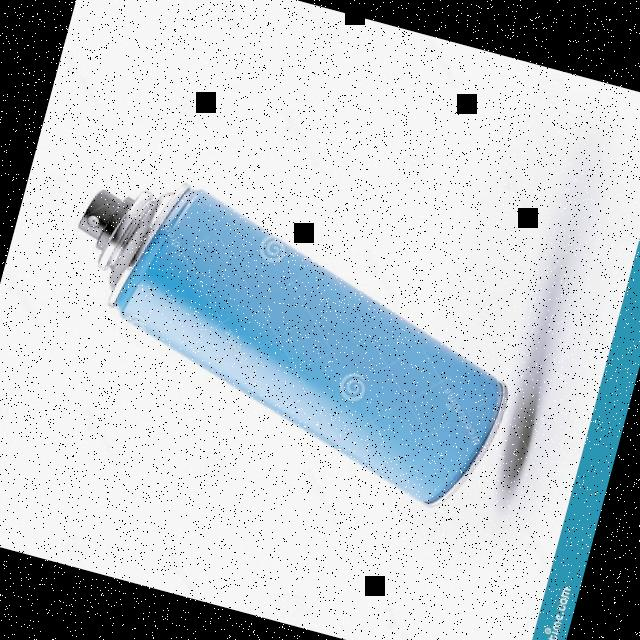chemical_spray_can: (12, 148, 570, 540)
